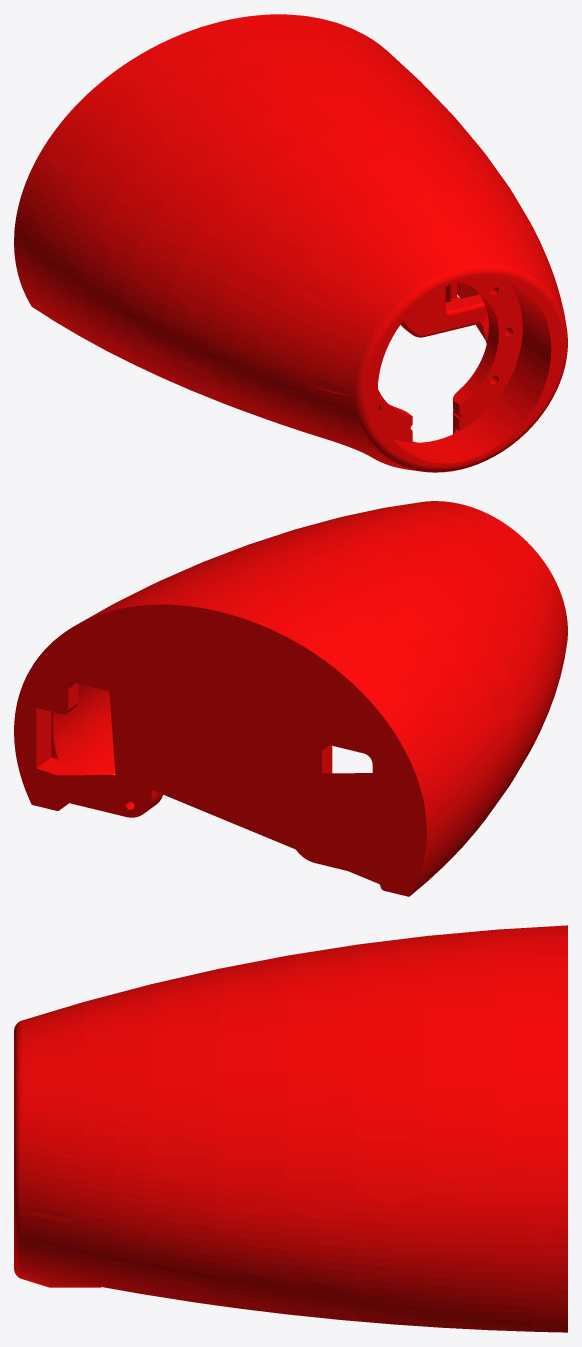
The model's file is torso_1_bottom_torso_1.glb.
The picture shows the model from 3 angles, top to bottom: view 1: azimuth 30°, elevation 25°; view 2: azimuth 150°, elevation 25°; view 3: azimuth 270°, elevation 25°; orthographic projection. The views are drawn at different scales.
Parts seen in each view (by area): view 1: torso_1_bottom_torso_1.obj; view 2: torso_1_bottom_torso_1.obj; view 3: torso_1_bottom_torso_1.obj.
Part boxes in pixels (x1,y1,x2,y2): torso_1_bottom_torso_1.obj: (14,14,567,472); torso_1_bottom_torso_1.obj: (14,501,567,896); torso_1_bottom_torso_1.obj: (14,925,567,1332).
Size of the model in its own units: 0.2388 by 0.154 by 0.2444.
